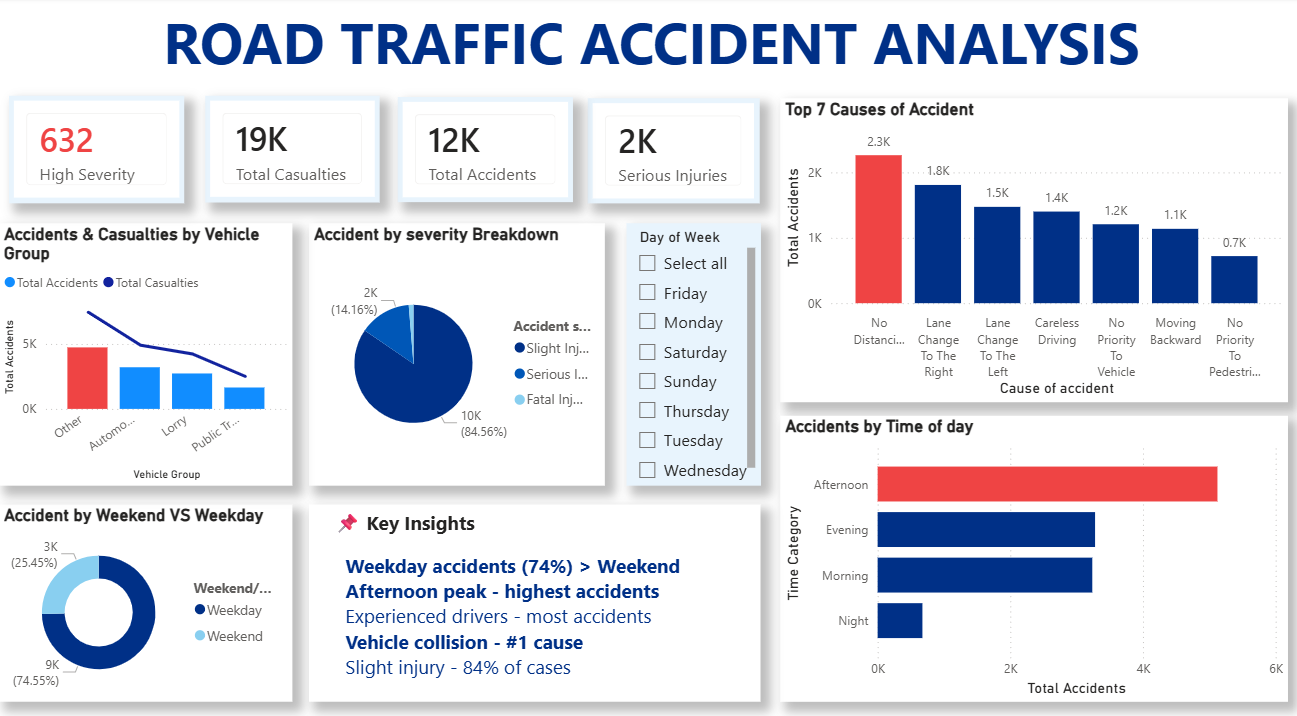

What the dashboard file says about the page in this screenshot:
{"tool":"powerbi","page":{"name":"RTA Overview","canvas":[1280,720],"ordinal":0},"visuals":[{"type":"clusteredColumnChart","title":"Top 7 Causes of Accident","fields":{"Category":["RTA POWER BI.Cause of accident"],"Y":["Measures (3).Total Accidents"]},"box":[766.9,99.4,498.2,298.2],"z":0},{"type":"pieChart","title":"Accident by severity Breakdown","fields":{"Y":["Measures (3).Total Accidents"],"Category":["RTA POWER BI.Accident severity"]},"box":[304,221.5,290.5,257.2],"z":1000},{"type":"cardVisual","fields":{"Data":["Measures (3).Serious Injuries"]},"box":[578.5,99.7,168.6,103.4],"z":2000},{"type":"cardVisual","fields":{"Data":["Measures (3).Total Accidents"]},"box":[391.4,98.5,172.3,103.4],"z":3000},{"type":"cardVisual","fields":{"Data":["Measures (3).Total Casualties"]},"box":[201.8,97.2,171.1,104.6],"z":4000},{"type":"slicer","fields":{"Values":["RTA POWER BI.Day of Week"]},"box":[615.4,221.5,131.7,257.2],"z":5000},{"type":"donutChart","title":"Accident by Weekend VS Weekday ","fields":{"Category":["RTA POWER BI.Weekend/Weekday"],"Y":["Measures (3).Total Accidents"]},"box":[0,498.5,288,193.2],"z":6000},{"type":"lineClusteredColumnComboChart","title":"Accidents & Casualties by Vehicle Group","fields":{"Y":["Measures (3).Total Accidents"],"Y2":["Measures (3).Total Casualties"],"Category":["RTA POWER BI.Vehicle Group"]},"box":[0,221.5,288,257.2],"z":7000},{"type":"barChart","title":" Accidents by Time of day","fields":{"Category":["RTA POWER BI.Time Category"],"Y":["Measures (3).Total Accidents"]},"box":[766.8,411.1,498.5,280.6],"z":8000},{"type":"cardVisual","fields":{"Data":["Measures (3).High Risk Count"]},"box":[9.8,97.2,172.3,105.8],"z":9000},{"type":"textbox","box":[95.7,0,1089.6,87.1],"z":10000},{"type":"textbox","box":[304,498.5,443.1,193.2],"z":11000}]}

Visuals, with their boxes in screenshot pixels (x1, y1, x2, y2), scaled from the page's 1280x720 canvas onto the 1297x716 screenshot:
"Top 7 Causes of Accident" clusteredColumnChart: l=777, t=99, r=1282, b=395
"Accident by severity Breakdown" pieChart: l=308, t=220, r=602, b=476
cardVisual - Measures (3).Serious Injuries: l=586, t=99, r=757, b=202
cardVisual - Measures (3).Total Accidents: l=397, t=98, r=571, b=201
cardVisual - Measures (3).Total Casualties: l=204, t=97, r=378, b=201
slicer - RTA POWER BI.Day of Week: l=624, t=220, r=757, b=476
"Accident by Weekend VS Weekday " donutChart: l=0, t=496, r=292, b=688
"Accidents & Casualties by Vehicle Group" lineClusteredColumnComboChart: l=0, t=220, r=292, b=476
" Accidents by Time of day" barChart: l=777, t=409, r=1282, b=688
cardVisual - Measures (3).High Risk Count: l=10, t=97, r=185, b=202
textbox: l=97, t=0, r=1201, b=87
textbox: l=308, t=496, r=757, b=688
